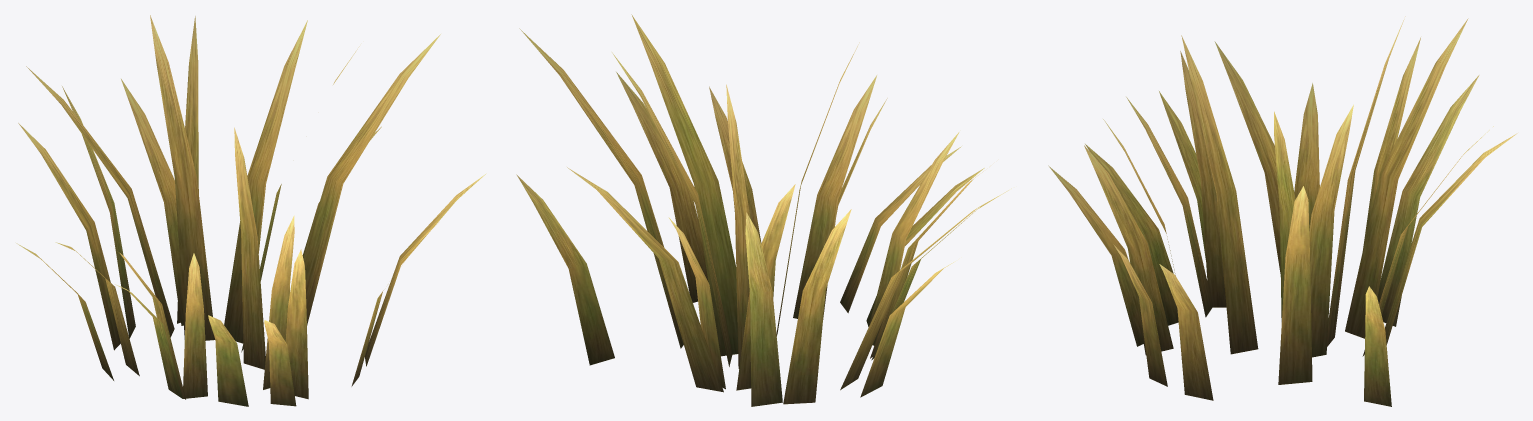
The model's file is a02_dry_grass_tuft_low.glb.
3 views of the same model, side by side, from view 1: azimuth 30°, elevation 25°; view 2: azimuth 150°, elevation 25°; view 3: azimuth 270°, elevation 25° (orthographic). The views are drawn at different scales.
Parts seen in each view (by area): view 1: A02_low_Tuft; view 2: A02_low_Tuft; view 3: A02_low_Tuft.
Part boxes in pixels (x1,y1,x2,y2): A02_low_Tuft: (16,15,486,406); A02_low_Tuft: (516,14,1011,406); A02_low_Tuft: (1048,16,1517,406).
Bounding box in the file's own units: 0.9931 × 0.6713 × 0.8877.
1 material, 1 textured.
